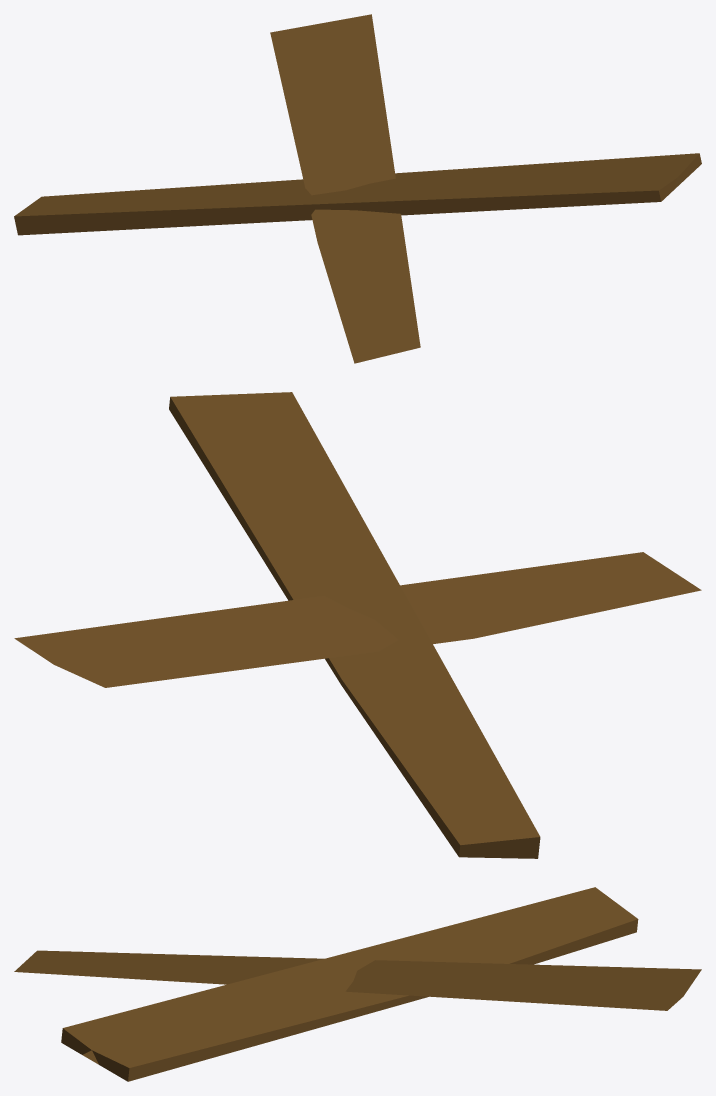
The model's file is Frame Batu.fbx.
The picture shows the model from 3 angles, top to bottom: view 1: azimuth 30°, elevation 25°; view 2: azimuth 150°, elevation 25°; view 3: azimuth 270°, elevation 25°; orthographic projection. The views are drawn at different scales.
Visible parts, largest first — view 1: frame batu.001; view 2: frame batu.001; view 3: frame batu.001.
Boxes of the visible parts, bbox=[...] form: frame batu.001: bbox=[14, 14, 701, 363]; frame batu.001: bbox=[14, 392, 701, 858]; frame batu.001: bbox=[14, 887, 701, 1081].
Bounding box in the file's own units: 446 × 91.84 × 454.
